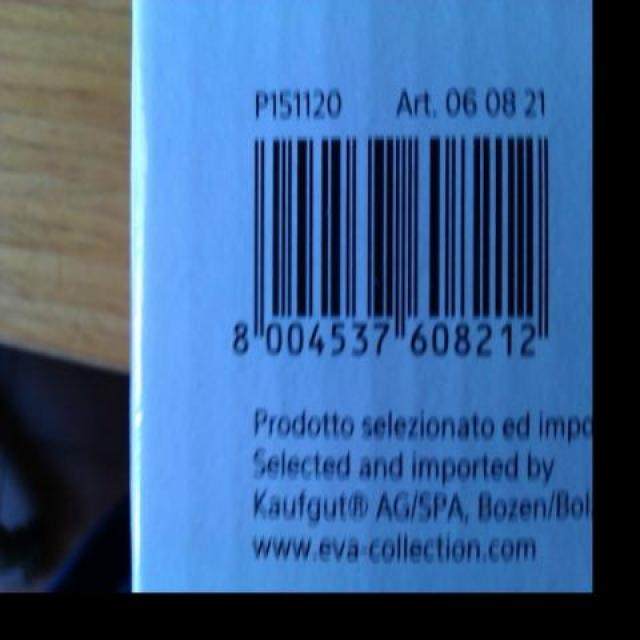Barcode: (219, 123, 569, 373)
